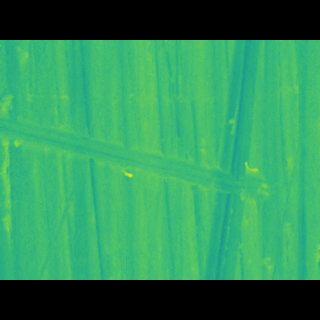Loch: (0, 116, 273, 193), (198, 68, 264, 250), (0, 92, 21, 232)
